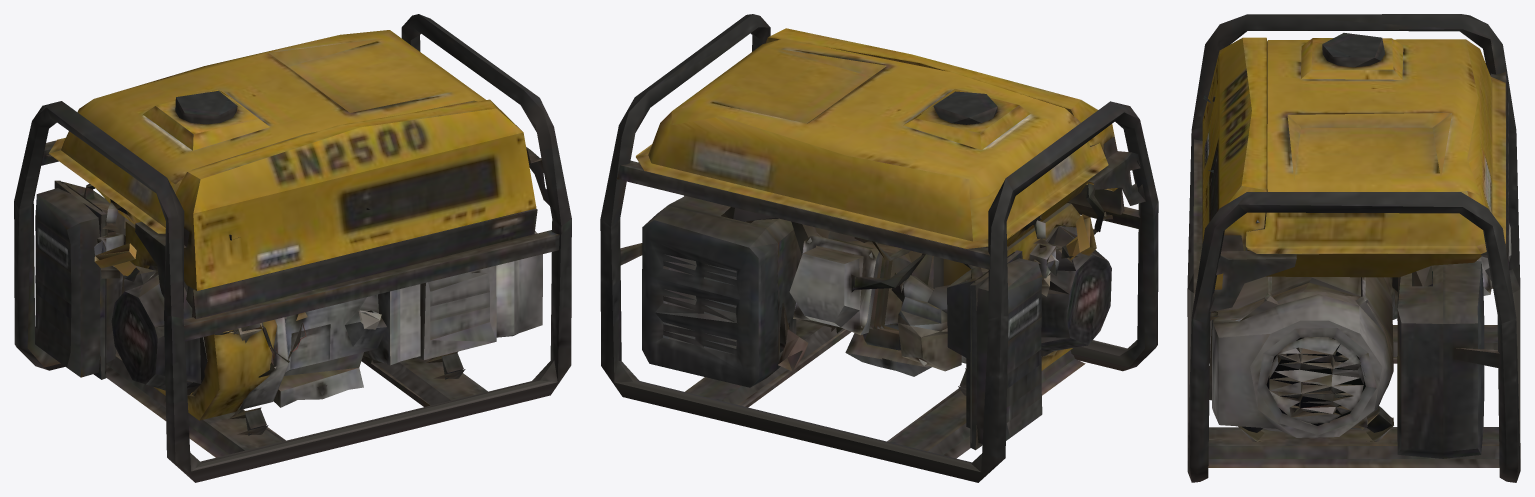
The model's file is portable_generator.glb.
3 views of the same model, side by side, from view 1: azimuth 30°, elevation 25°; view 2: azimuth 150°, elevation 25°; view 3: azimuth 270°, elevation 25° (orthographic). The views are drawn at different scales.
Parts seen in each view (by area): view 1: portable_generator; view 2: portable_generator; view 3: portable_generator.
Boxes of the visible parts, x1,y1,x2,y2 form: portable_generator: (14, 14, 571, 482); portable_generator: (600, 14, 1158, 482); portable_generator: (1187, 14, 1520, 482).
Bounding box in the file's own units: 0.8162 × 0.5782 × 0.5636.
Materials: 1 (1 with a texture image).
